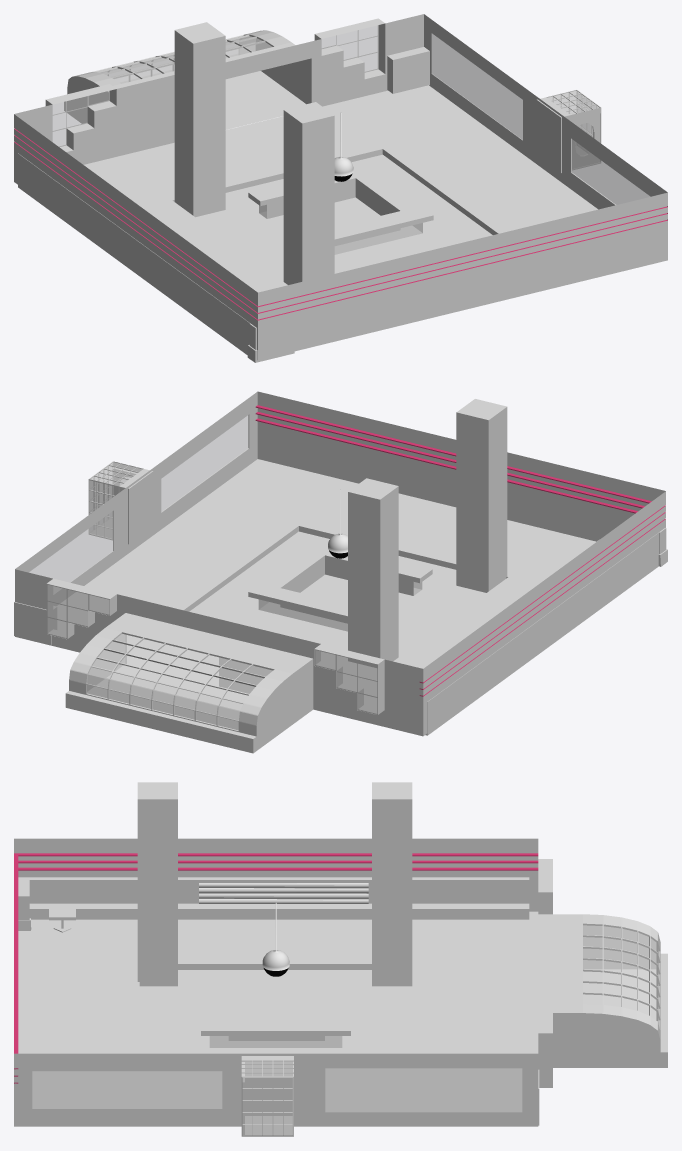
The model's file is Red White restaurant.fbx.
The picture shows the model from 3 angles, top to bottom: view 1: azimuth 30°, elevation 25°; view 2: azimuth 150°, elevation 25°; view 3: azimuth 270°, elevation 25°; orthographic projection. The views are drawn at different scales.
Visible parts, largest first — view 1: Cube.186, Cube.191, Cube.189, Cube.200, Cube.199, Cube.190, Cube.197, Cube.201, Cube.187, Cube.195, Plane.035, Sphere.010; view 2: Cube.186, Cube.190, Cube.191, Cube.189, Cube.199, Cube.200, Cube.197, Cube.201, Cube.187, Cube.195; view 3: Cube.186, Cube.189, Cube.190, Cube.197, Cube.200, Cube.199, Cube.201, Cube.187, Cylinder.084, Cube.191, Sphere.010, Cube.196 (+2 smaller).
Boxes of the visible parts, bbox=[...] form: Cube.186: bbox=[14, 85, 667, 360]; Cube.191: bbox=[14, 14, 423, 164]; Cube.189: bbox=[424, 14, 667, 209]; Cube.200: bbox=[174, 22, 225, 217]; Cube.199: bbox=[283, 102, 334, 284]; Cube.190: bbox=[64, 30, 311, 129]; Cube.197: bbox=[18, 153, 252, 354]; Cube.201: bbox=[248, 164, 433, 254]; Cube.187: bbox=[536, 90, 601, 172]; Cube.195: bbox=[387, 47, 429, 93]; Plane.035: bbox=[571, 113, 600, 168]; Sphere.010: bbox=[334, 113, 353, 181]; Cube.186: bbox=[57, 391, 665, 735]; Cube.190: bbox=[65, 613, 313, 753]; Cube.191: bbox=[15, 569, 423, 736]; Cube.189: bbox=[15, 392, 257, 605]; Cube.199: bbox=[456, 399, 507, 592]; Cube.200: bbox=[348, 478, 398, 667]; Cube.197: bbox=[425, 531, 660, 735]; Cube.201: bbox=[248, 541, 432, 631]; Cube.187: bbox=[88, 461, 153, 544]; Cube.195: bbox=[14, 602, 56, 644]; Cube.186: bbox=[14, 838, 538, 1111]; Cube.189: bbox=[14, 1053, 538, 1126]; Cube.190: bbox=[538, 914, 667, 1067]; Cube.197: bbox=[24, 877, 529, 919]; Cube.200: bbox=[372, 782, 412, 986]; Cube.199: bbox=[137, 782, 177, 986]; Cube.201: bbox=[201, 970, 350, 1047]; Cube.187: bbox=[241, 1056, 293, 1136]; Cylinder.084: bbox=[199, 883, 368, 903]; Cube.191: bbox=[538, 859, 552, 1087]; Sphere.010: bbox=[262, 902, 289, 976]; Cube.196: bbox=[18, 877, 31, 930].
Size of the model in its own units: 2791 by 1035 by 3253.
